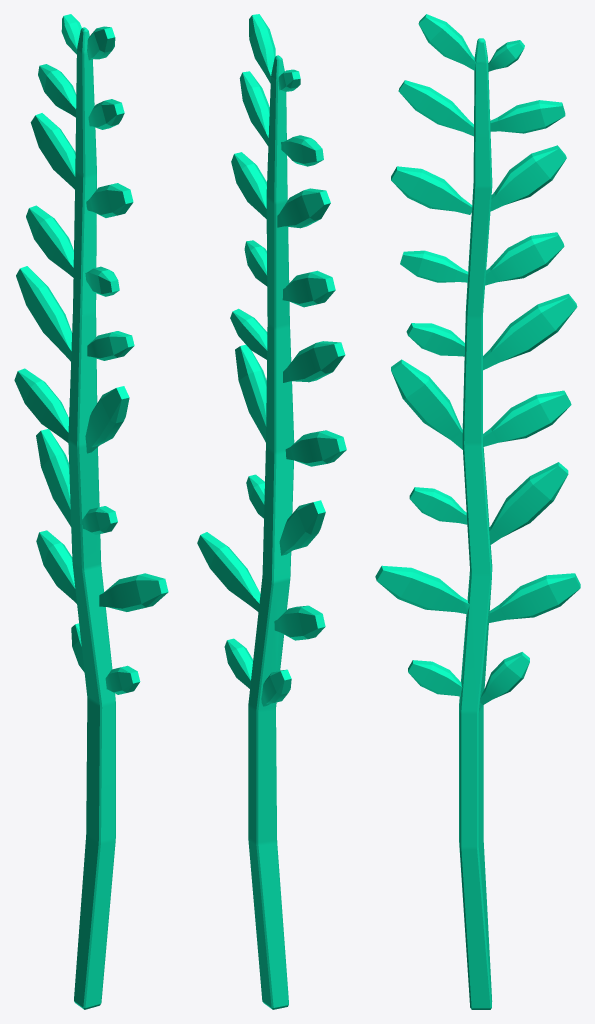
Rendered from kelp1.gltf.
The picture shows the model from 3 angles, left to right: view 1: azimuth 30°, elevation 25°; view 2: azimuth 210°, elevation 25°; view 3: azimuth 270°, elevation 25°; orthographic projection. The views are drawn at different scales.
Bounding box in the file's own units: 0.3075 × 5.14 × 0.9692.
